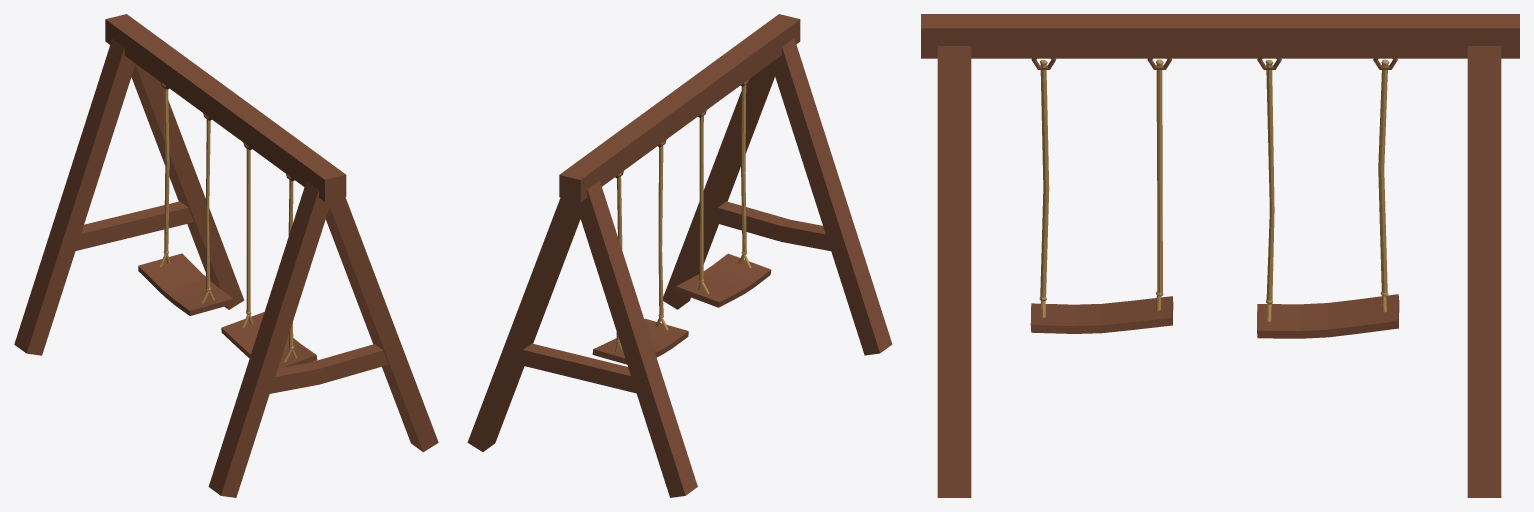
Rendered from SwingSeparated.fbx.
3 views of the same model, side by side, from view 1: azimuth 30°, elevation 25°; view 2: azimuth 150°, elevation 25°; view 3: azimuth 270°, elevation 25° (orthographic). The views are drawn at different scales.
Parts seen in each view (by area): view 1: Cube.8546, Cube.8548, Cube.8547, Cube.8549, Cube.8550; view 2: Cube.8546, Cube.8549, Cube.8550, Cube.8548, Cube.8547; view 3: Cube.8546, Cube.8548, Cube.8549, Cube.8547, Cube.8550.
Boxes of the visible parts, x1,y1,x2,y2 form: Cube.8546: [14, 14, 438, 497]; Cube.8548: [138, 253, 233, 315]; Cube.8547: [159, 84, 214, 303]; Cube.8549: [221, 312, 317, 368]; Cube.8550: [242, 145, 297, 362]; Cube.8546: [467, 14, 892, 497]; Cube.8549: [675, 253, 771, 307]; Cube.8550: [698, 81, 751, 293]; Cube.8548: [592, 318, 688, 364]; Cube.8547: [614, 142, 668, 354]; Cube.8546: [921, 14, 1519, 497]; Cube.8548: [1257, 294, 1399, 338]; Cube.8549: [1030, 296, 1173, 333]; Cube.8547: [1265, 59, 1389, 321]; Cube.8550: [1039, 59, 1163, 317].
Bounding box in the file's own units: 229 × 304 × 400.
